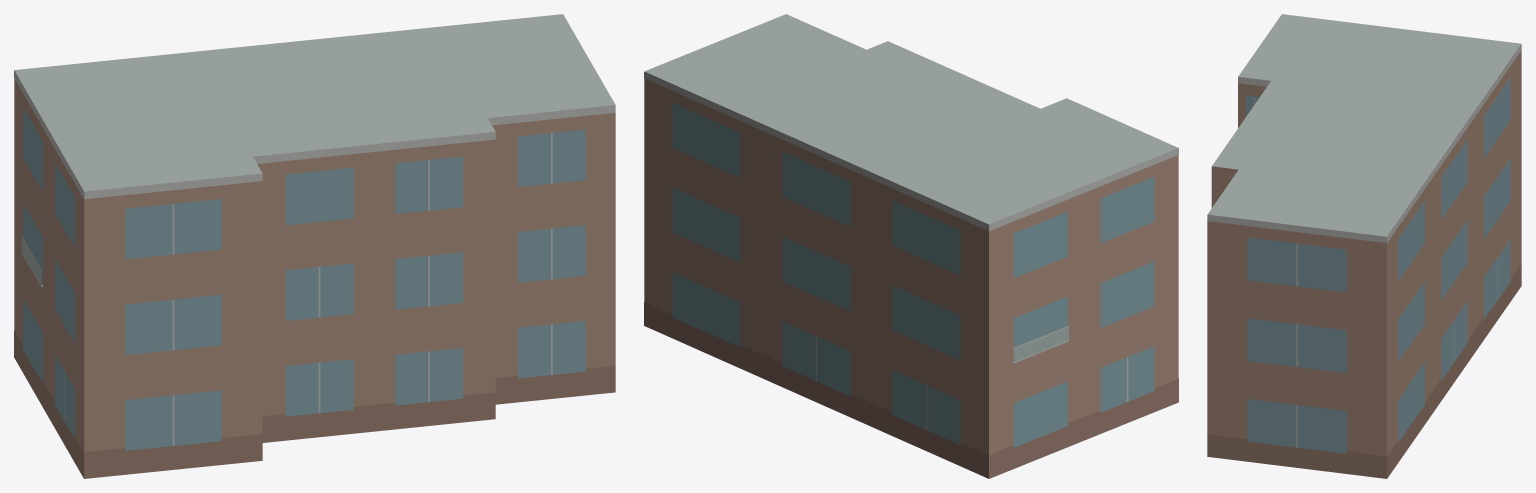
The model's file is survey-upis-32804059.glb.
3 views of the same model, side by side, from view 1: azimuth 30°, elevation 25°; view 2: azimuth 150°, elevation 25°; view 3: azimuth 270°, elevation 25° (orthographic). The views are drawn at different scales.
Visible parts, largest first — view 1: survey-upis-32804059.tmp; view 2: survey-upis-32804059.tmp; view 3: survey-upis-32804059.tmp.
Boxes of the visible parts, box(x1,y1,x2,y2) form: survey-upis-32804059.tmp: box(14, 14, 615, 478); survey-upis-32804059.tmp: box(644, 14, 1178, 478); survey-upis-32804059.tmp: box(1207, 14, 1521, 478).
Bounding box in the file's own units: 18.06 × 9.15 × 10.77.
